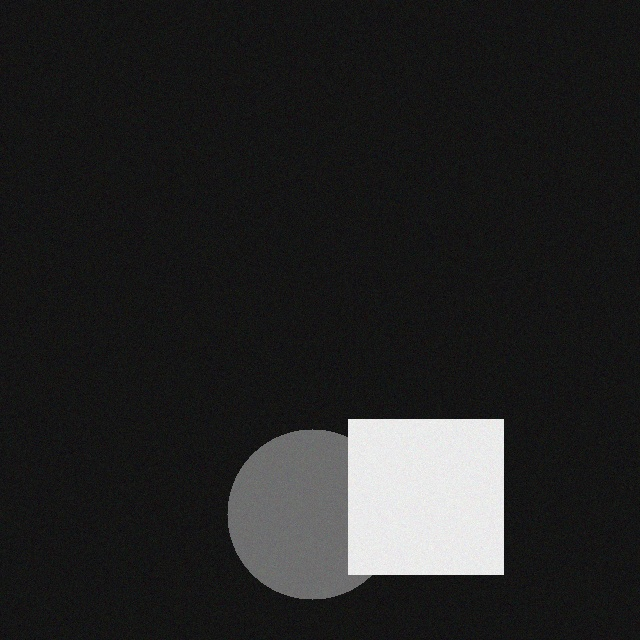circle: (213, 444, 383, 614)
square: (334, 434, 489, 589)
